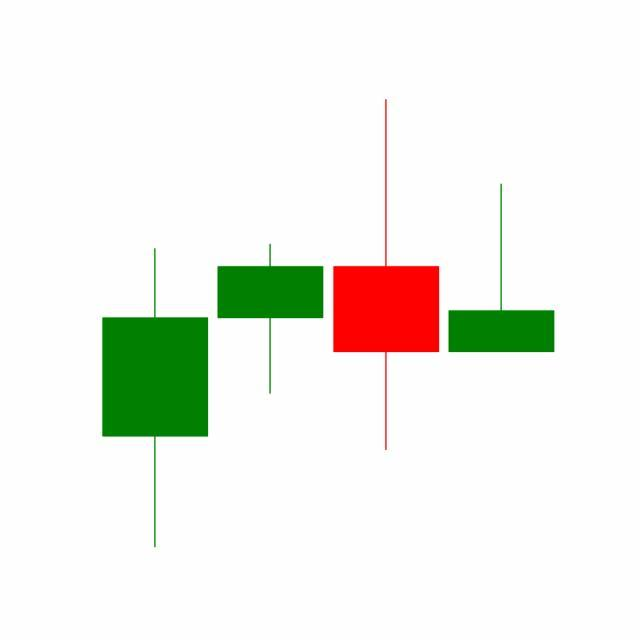Spinning Top: (329, 96, 445, 455)
